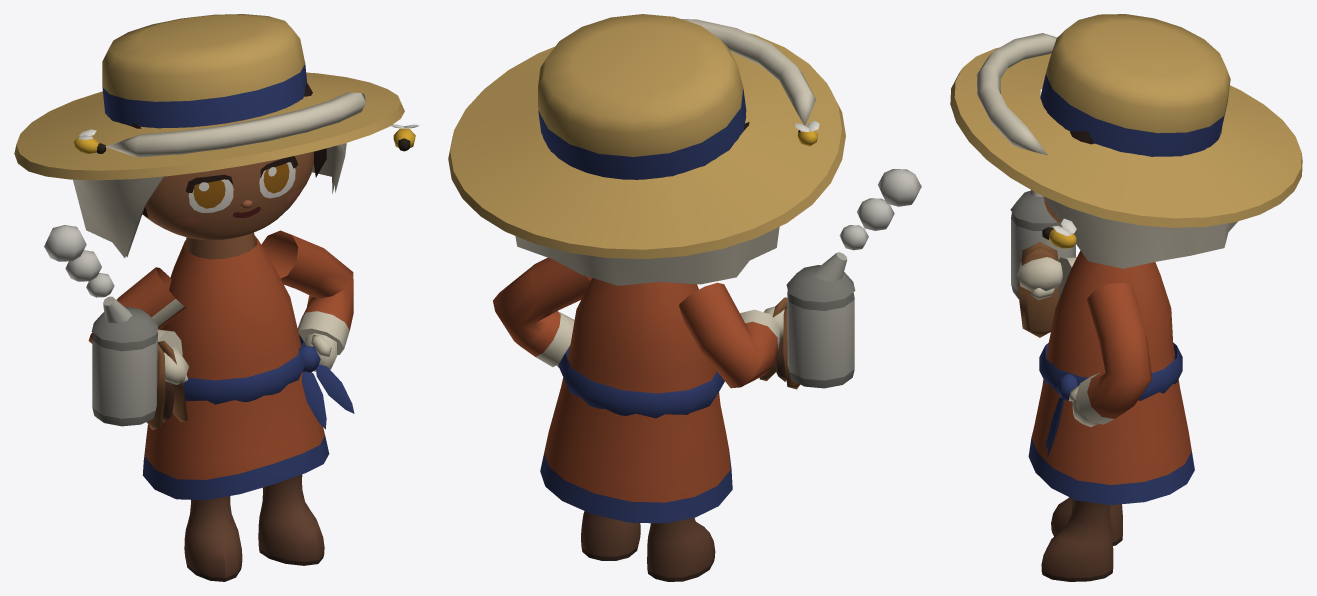
The model's file is beekeeper.glb.
The picture shows the model from 3 angles, left to right: view 1: azimuth 30°, elevation 25°; view 2: azimuth 150°, elevation 25°; view 3: azimuth 270°, elevation 25°; orthographic projection. The views are drawn at different scales.
Parts seen in each view (by area): view 1: beekeeper; view 2: beekeeper; view 3: beekeeper.
Part boxes in pixels (x1=…): beekeeper: x1=14, y1=14, x2=419, y2=581; beekeeper: x1=448, y1=14, x2=921, y2=581; beekeeper: x1=950, y1=14, x2=1302, y2=581.
Size of the model in its own units: 0.7228 by 0.9244 by 0.5844.
